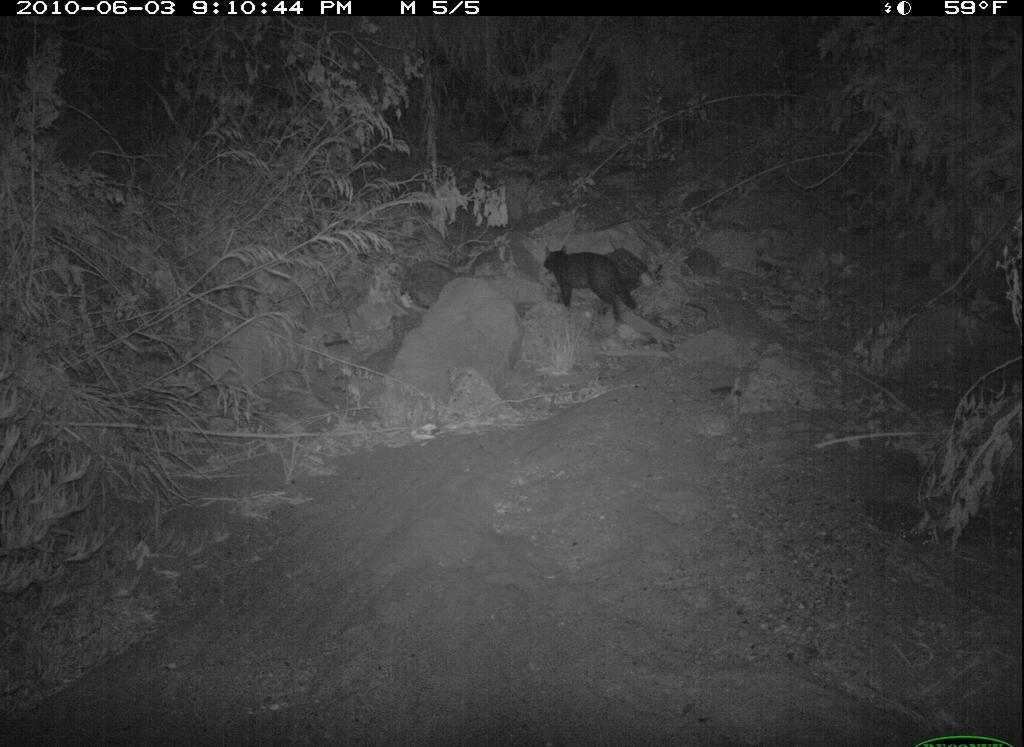cat: (537, 236, 651, 344)
